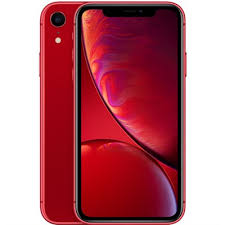iphone: (36, 2, 187, 225)
iphone8: (37, 1, 185, 225)
